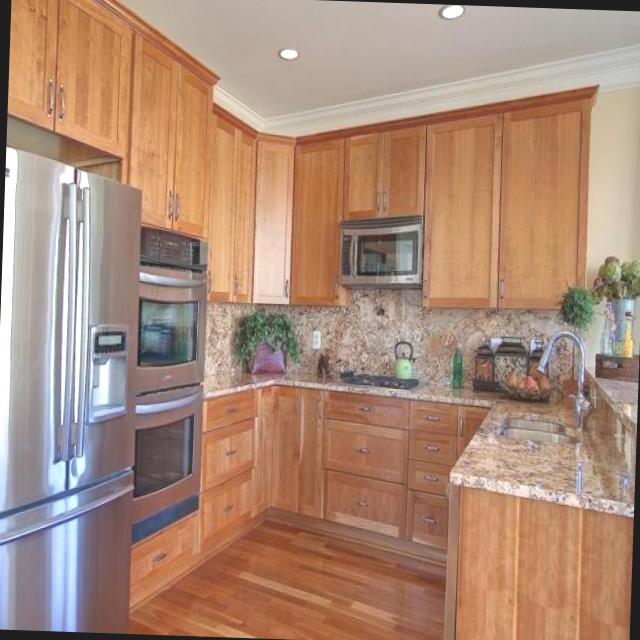cupboard: (420, 76, 600, 314), (5, 0, 135, 159), (126, 26, 221, 240), (289, 126, 357, 308), (206, 102, 259, 302), (343, 116, 427, 223)
faucet: (534, 328, 594, 428)
plants: (233, 304, 305, 376), (556, 280, 596, 332)
pots: (393, 339, 416, 380)
